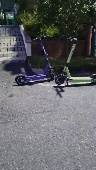beam: (14, 34, 59, 86)
gcooter: (54, 36, 96, 87)
